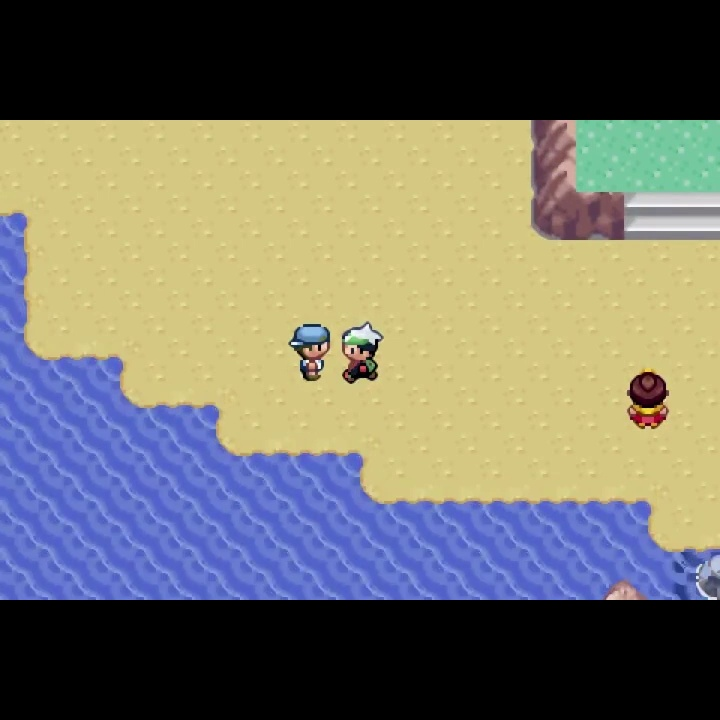npc: (625, 368, 672, 437), (336, 320, 382, 388), (289, 321, 335, 386)
